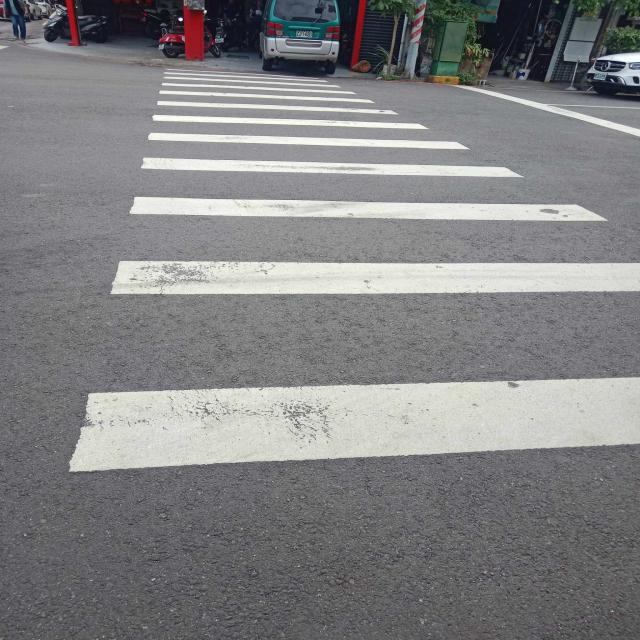zebra crossing: (82, 65, 628, 464)
